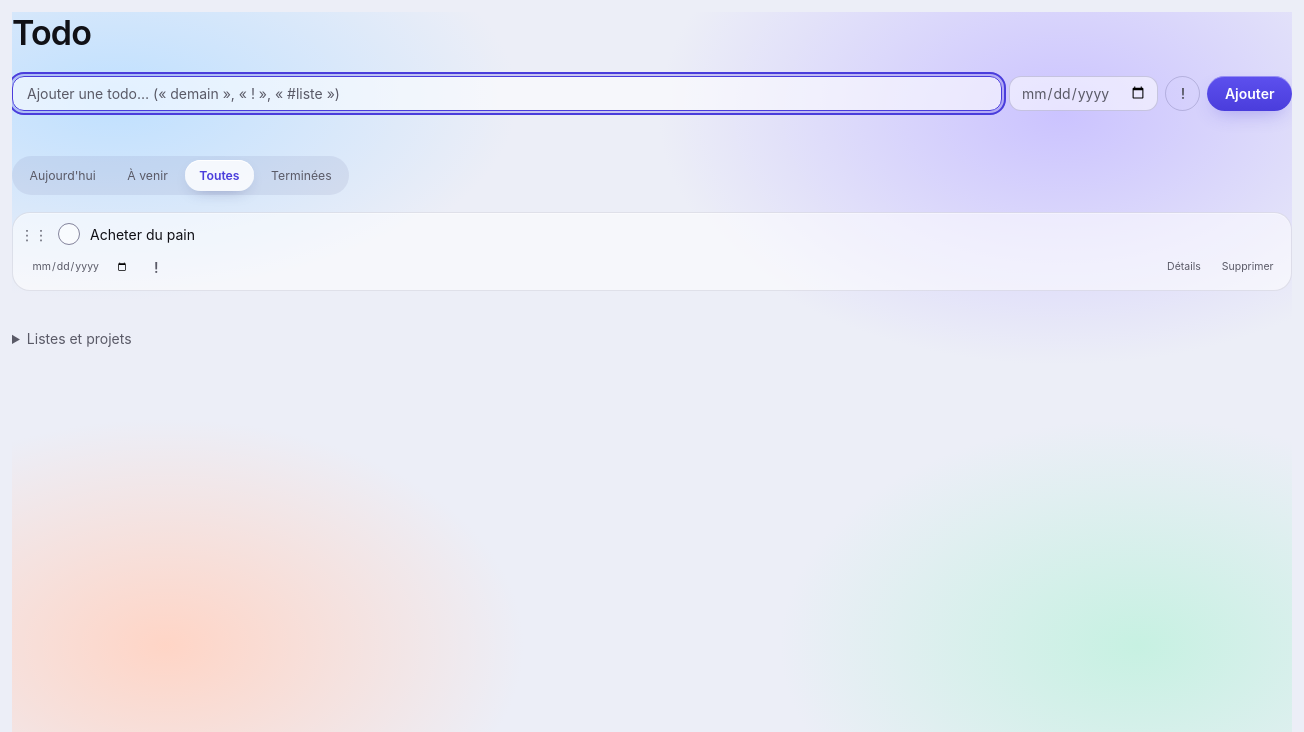
Test: TodosPage › ajoute une todo avec Entrée, vide le champ et garde le focus
The width and height of the screenshot is (1304, 732).
Expected: the button "Acheter du pain" is shown, [90,218,1284,250]
Type "Appeler Léa" into the field named "Nouvelle todo". click: (507, 93)
box: [12,76,1002,110]
Then press Enter
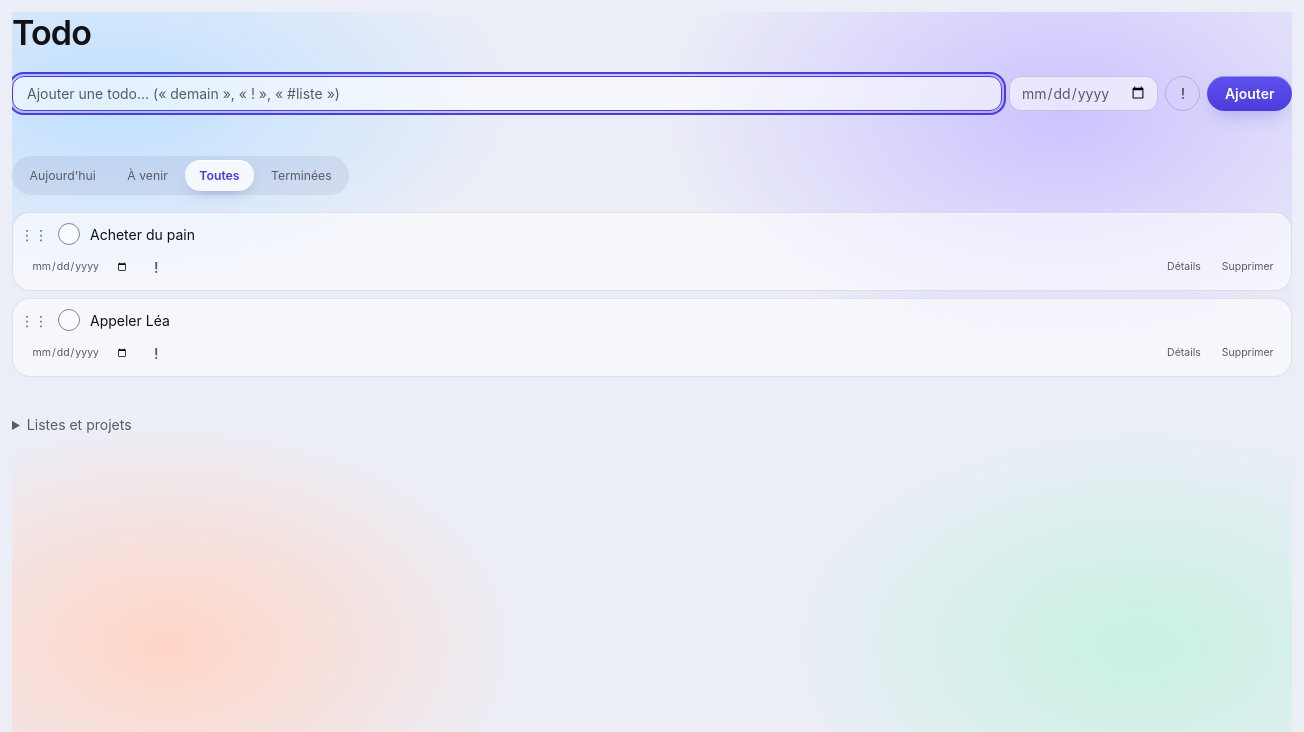
Expected: the button "Appeler Léa" is shown, [90,304,1284,336]
